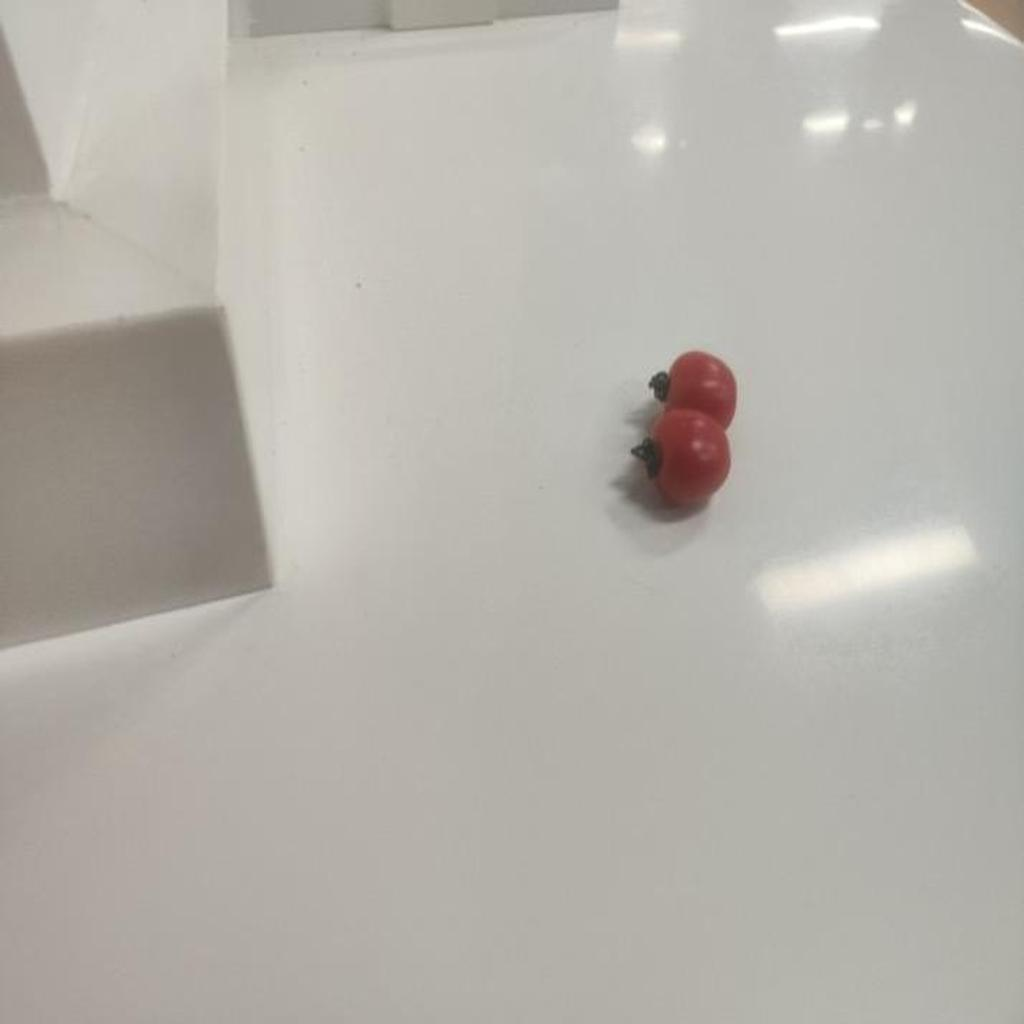tomato: (637, 409, 744, 501), (644, 343, 741, 432)
